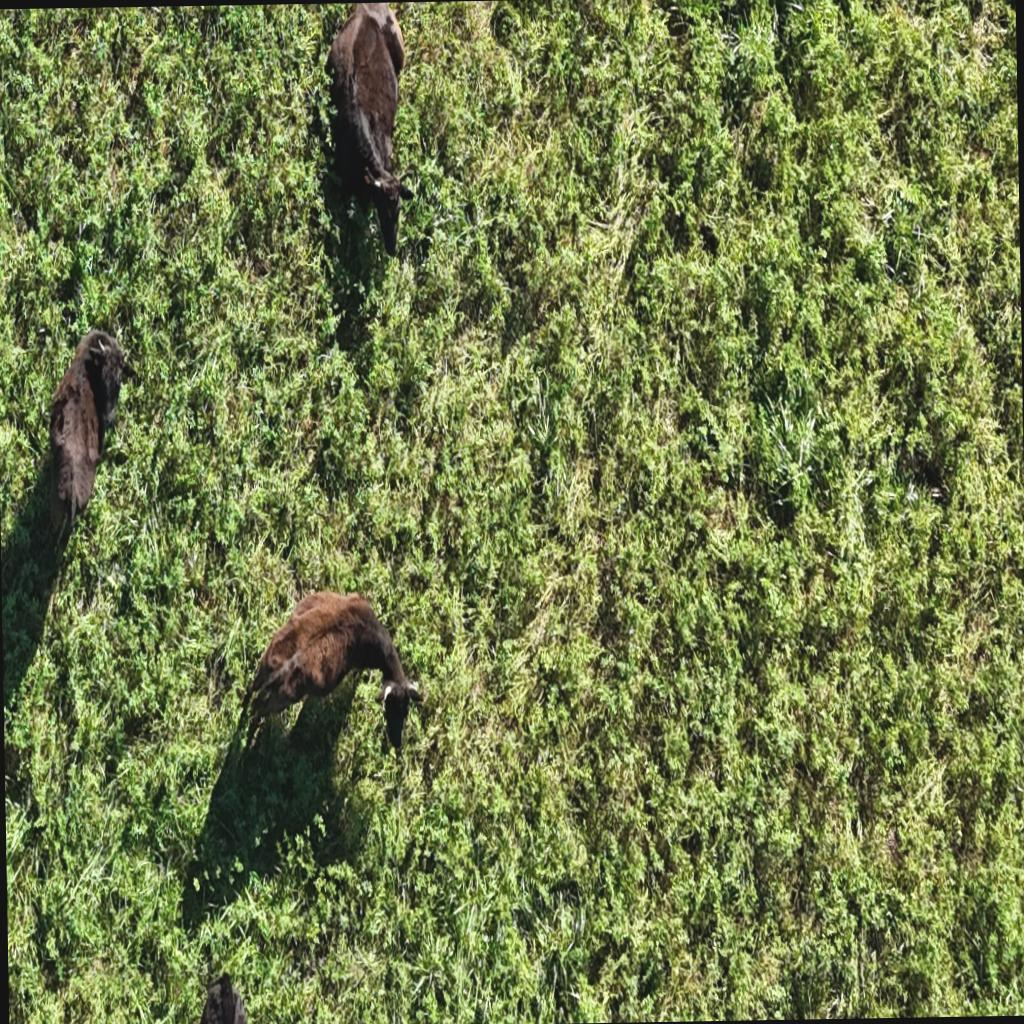cow: (240, 584, 420, 760), (322, 2, 412, 259), (44, 326, 140, 545)
